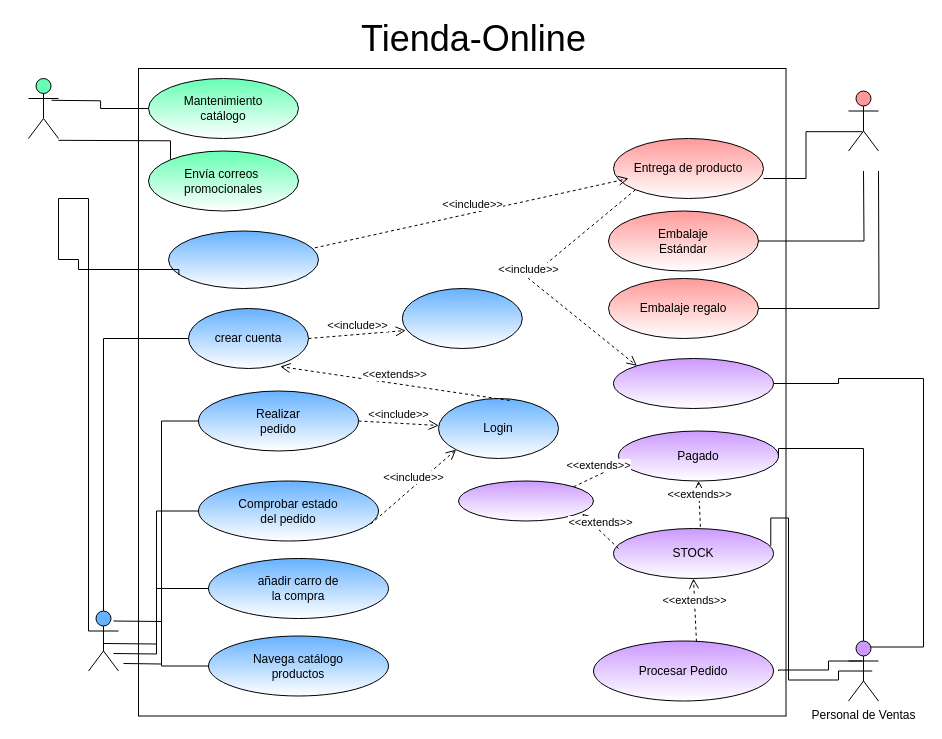
Some shapes in this 942 by 739 pixel diagram are drawn without their labels. Each missing label, with the box of its shape:
Cliente: (88, 610, 118, 671)
Datos: (401, 288, 522, 348)
Devolución: (612, 358, 774, 408)
devolver producto: (168, 230, 318, 288)
Espera: (458, 480, 594, 521)
Marketing: (28, 78, 58, 138)
Mensajerìa: (848, 90, 878, 151)
